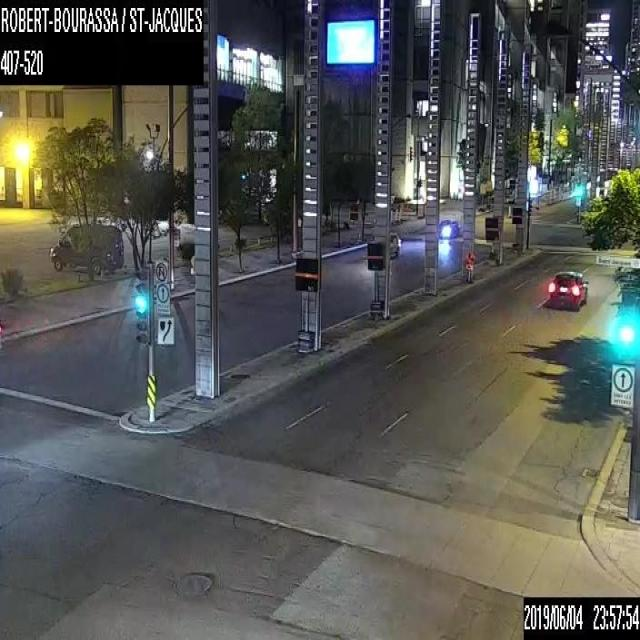construction: (464, 253, 476, 283)
vehicle: (48, 222, 123, 271), (549, 269, 587, 307), (438, 216, 457, 236), (389, 232, 399, 256)
